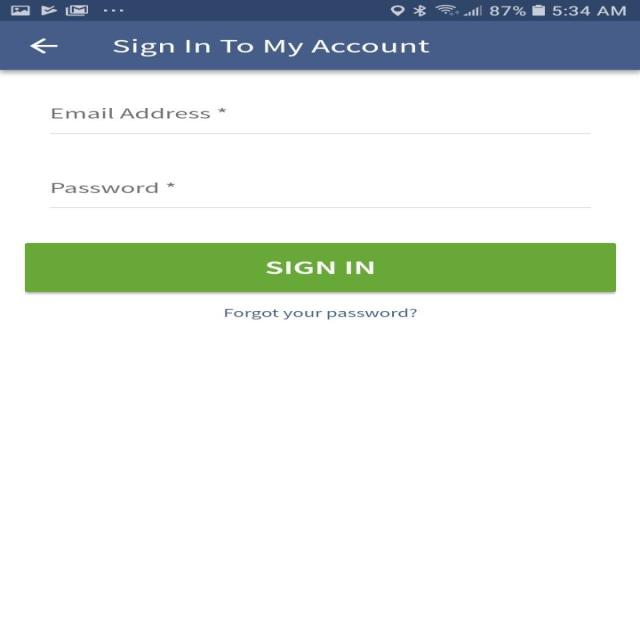EditText: (49, 107, 591, 134), (48, 182, 590, 208)
Icon: (28, 37, 58, 54)
Text: (113, 39, 430, 57), (224, 308, 417, 320), (52, 107, 225, 119), (51, 182, 176, 194)
TextButton: (24, 242, 615, 292)
